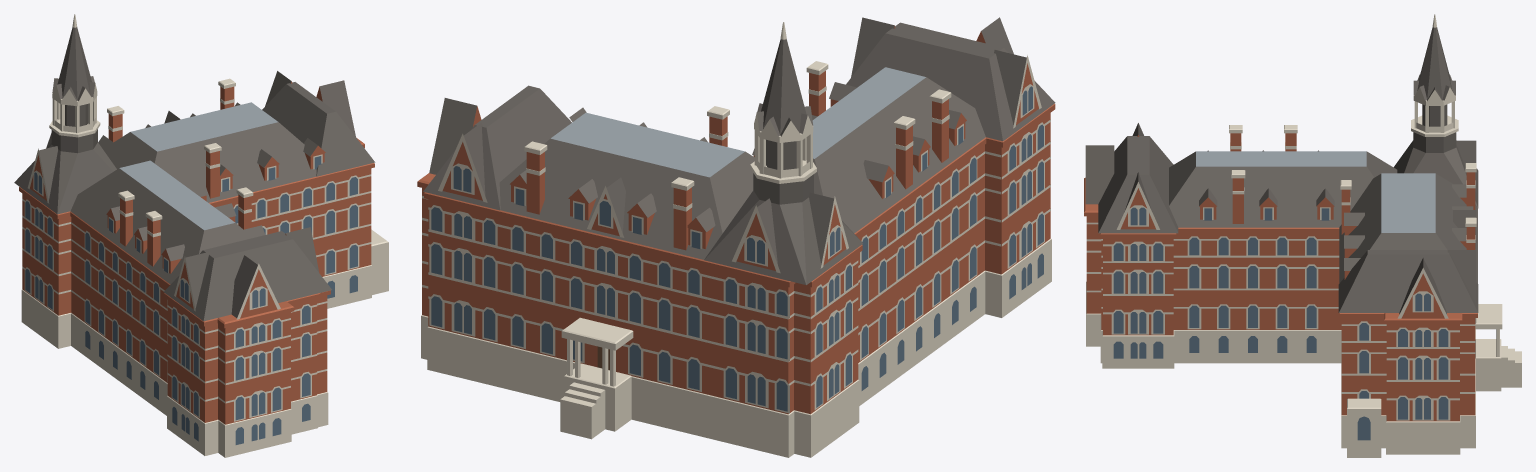
The model's file is nash-fisk-jubilee-hall.glb.
3 views of the same model, side by side, from view 1: azimuth 30°, elevation 25°; view 2: azimuth 150°, elevation 25°; view 3: azimuth 270°, elevation 25° (orthographic). The views are drawn at different scales.
Visible parts, largest first — view 1: Jubilee Hall; view 2: Jubilee Hall; view 3: Jubilee Hall.
Boxes of the visible parts, x1=… form: Jubilee Hall: x1=14, y1=14, x2=388, y2=457; Jubilee Hall: x1=417, y1=17, x2=1055, y2=457; Jubilee Hall: x1=1084, y1=14, x2=1521, y2=457.
Size of the model in its own units: 41.6 by 39.9 by 50.8.
